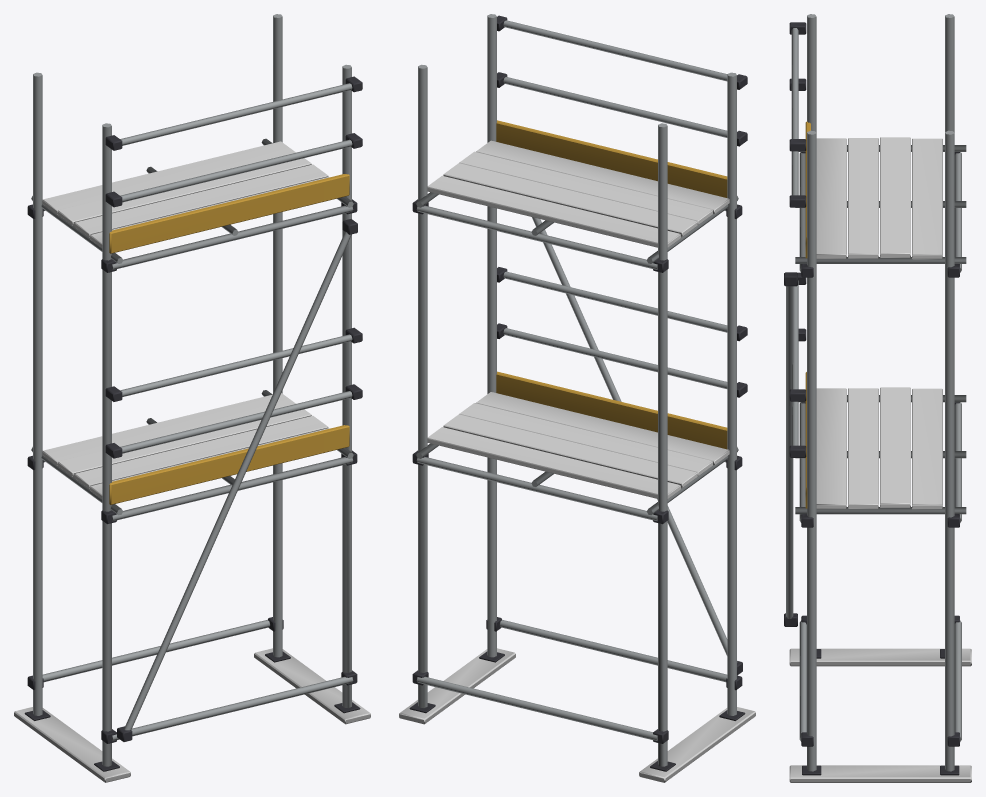
File: Scaffold.fbx
3 renders of one model, left to right at view 1: azimuth 30°, elevation 25°; view 2: azimuth 150°, elevation 25°; view 3: azimuth 270°, elevation 25°, orthographic.
Visible parts, largest first — view 1: Scaffold; view 2: Scaffold; view 3: Scaffold.
Part boxes in pixels (x1,y1,x2,y2): Scaffold: (14, 14, 370, 782); Scaffold: (399, 14, 755, 782); Scaffold: (784, 14, 971, 782).
Bounding box in the file's own units: 2.22 × 5.15 × 1.36.
